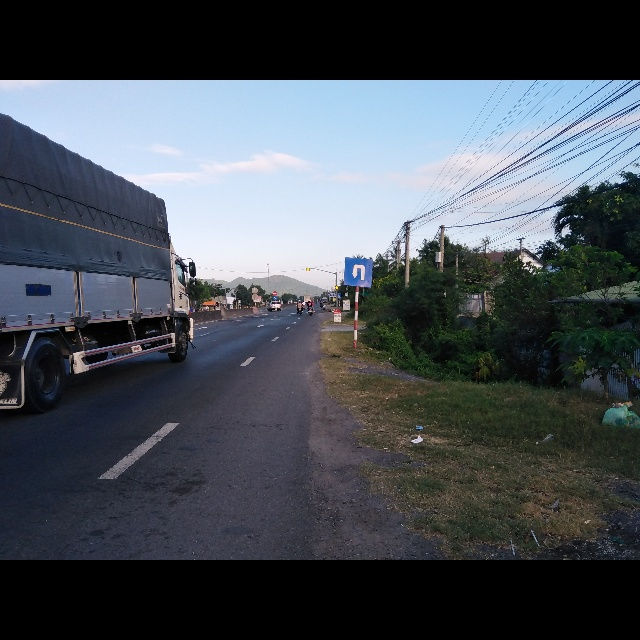Khu vực quay đầu xe: (345, 256, 373, 288)
